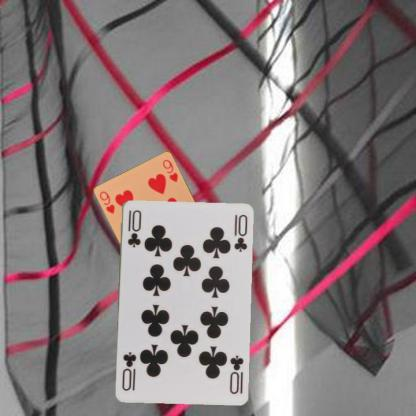10c: (125, 207, 143, 248), (227, 352, 244, 394)
9h: (97, 188, 116, 216)
